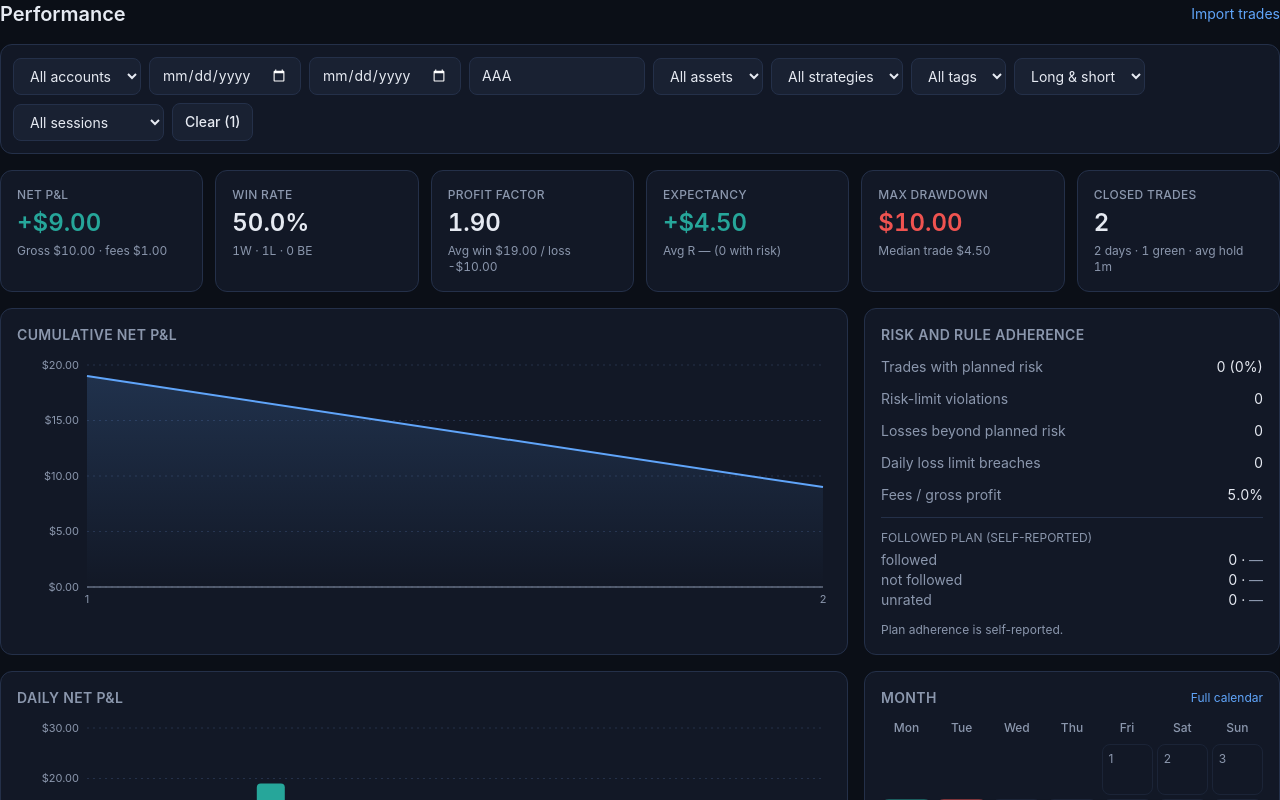
Test case: Dashboard › changing a filter updates the URL and refetches every panel with the same filter
Check: the element with test id "kpis" is shown, box [0,170,1279,292]
Select "Short" in the dropdown named "Direction" at [1080, 76], box [1014,58,1145,95]
(page scrolled)
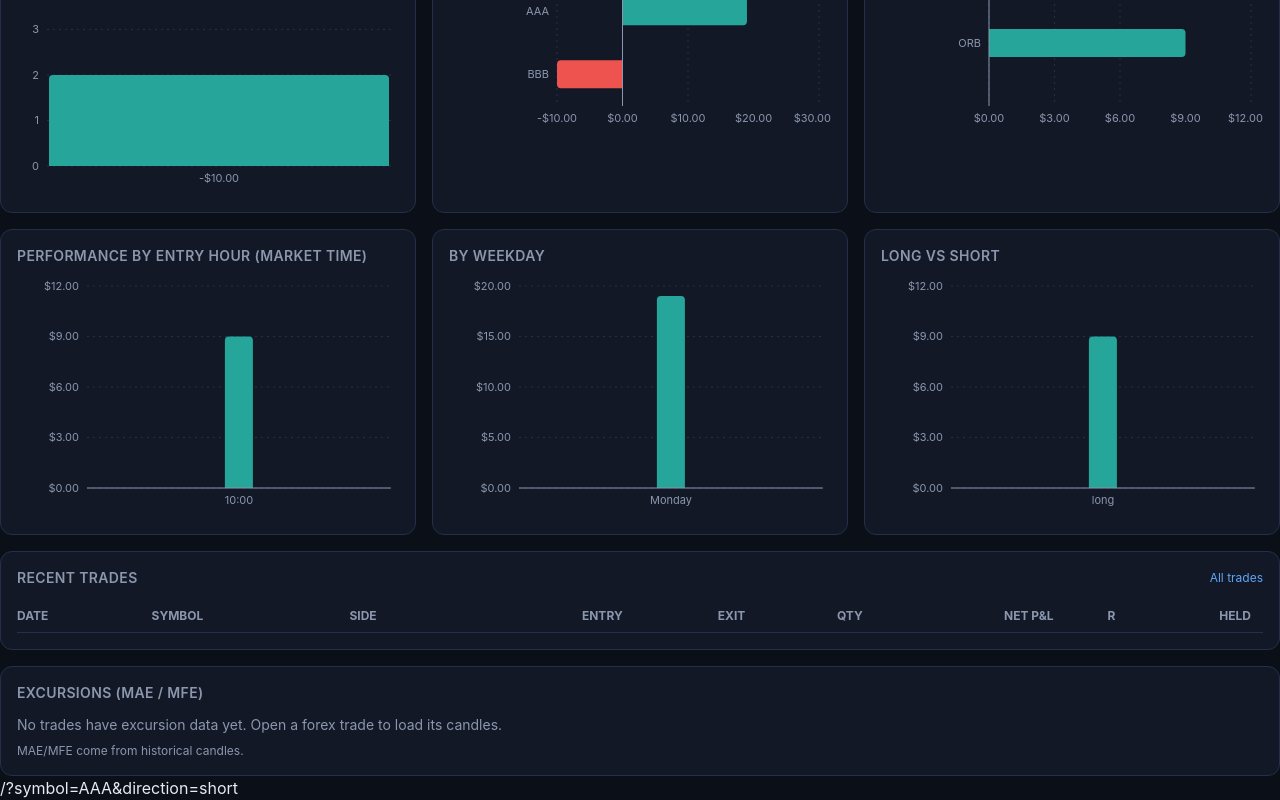
Check: the text with test id "location" reads "/?symbol=AAA&direction=short", box [0,778,238,798]
